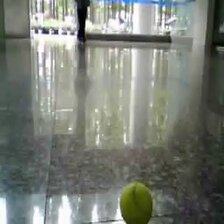tennis: (120, 183, 154, 224)
